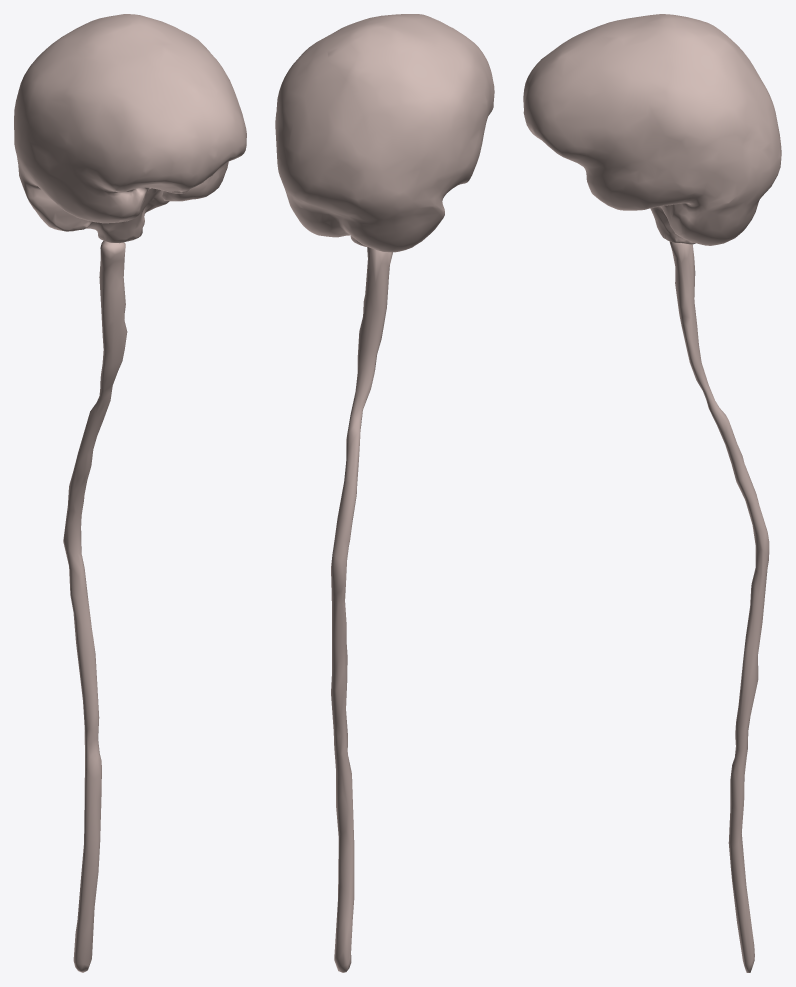
File: pediatric_adolescent_male.nervous.LOD0.glb
3 views of the same model, side by side, from view 1: azimuth 30°, elevation 25°; view 2: azimuth 150°, elevation 25°; view 3: azimuth 270°, elevation 25° (orthographic). The views are drawn at different scales.
Parts seen in each view (by area): view 1: PEDIATRIC.ADOLESCENT.MALE.NERVOUS.BRAIN, PEDIATRIC.ADOLESCENT.MALE.NERVOUS.SPINAL_CORD; view 2: PEDIATRIC.ADOLESCENT.MALE.NERVOUS.BRAIN, PEDIATRIC.ADOLESCENT.MALE.NERVOUS.SPINAL_CORD; view 3: PEDIATRIC.ADOLESCENT.MALE.NERVOUS.BRAIN, PEDIATRIC.ADOLESCENT.MALE.NERVOUS.SPINAL_CORD.
Part boxes in pixels (x1=…): PEDIATRIC.ADOLESCENT.MALE.NERVOUS.BRAIN: x1=14, y1=14, x2=246, y2=243; PEDIATRIC.ADOLESCENT.MALE.NERVOUS.SPINAL_CORD: x1=63, y1=240, x2=127, y2=972; PEDIATRIC.ADOLESCENT.MALE.NERVOUS.BRAIN: x1=275, y1=14, x2=494, y2=252; PEDIATRIC.ADOLESCENT.MALE.NERVOUS.SPINAL_CORD: x1=331, y1=247, x2=392, y2=972; PEDIATRIC.ADOLESCENT.MALE.NERVOUS.BRAIN: x1=523, y1=14, x2=781, y2=245; PEDIATRIC.ADOLESCENT.MALE.NERVOUS.SPINAL_CORD: x1=669, y1=241, x2=769, y2=972.
Size of the model in its own units: 0.1332 by 0.659 by 0.1625.
